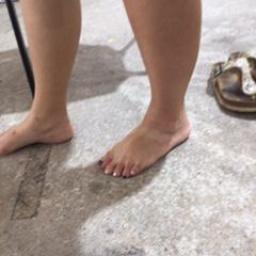Lateral View -Left Foot-: (93, 97, 198, 181)
